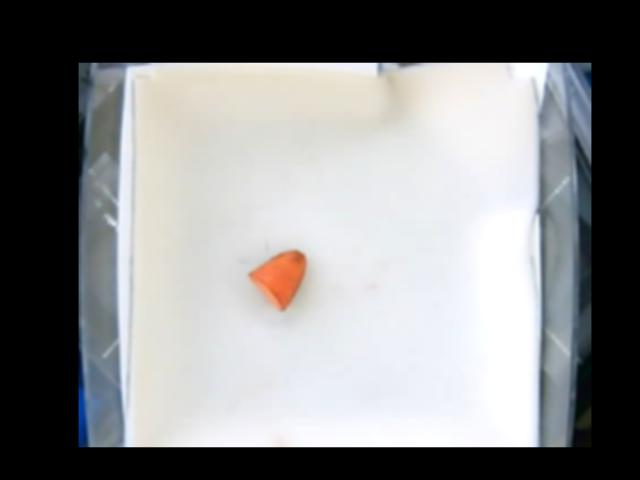Carrot: (246, 249, 306, 311)
